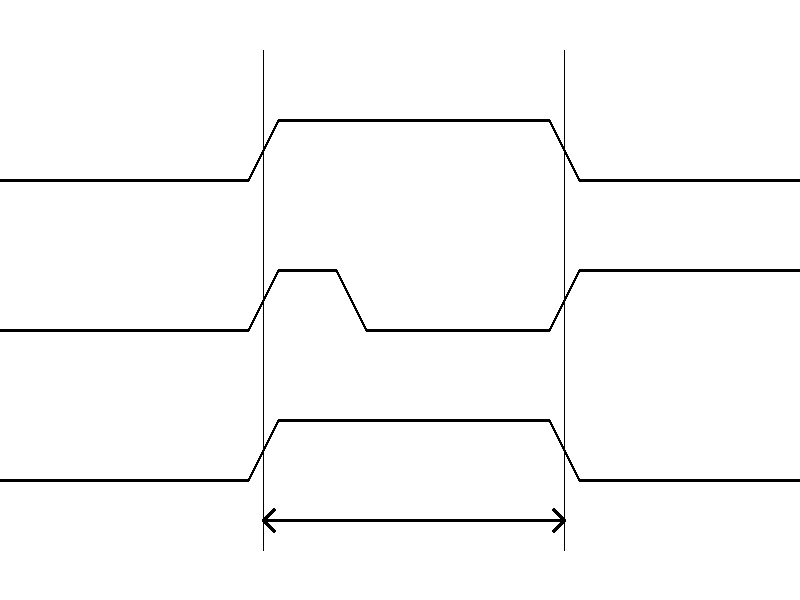double_arrow: (263, 505, 564, 535)
